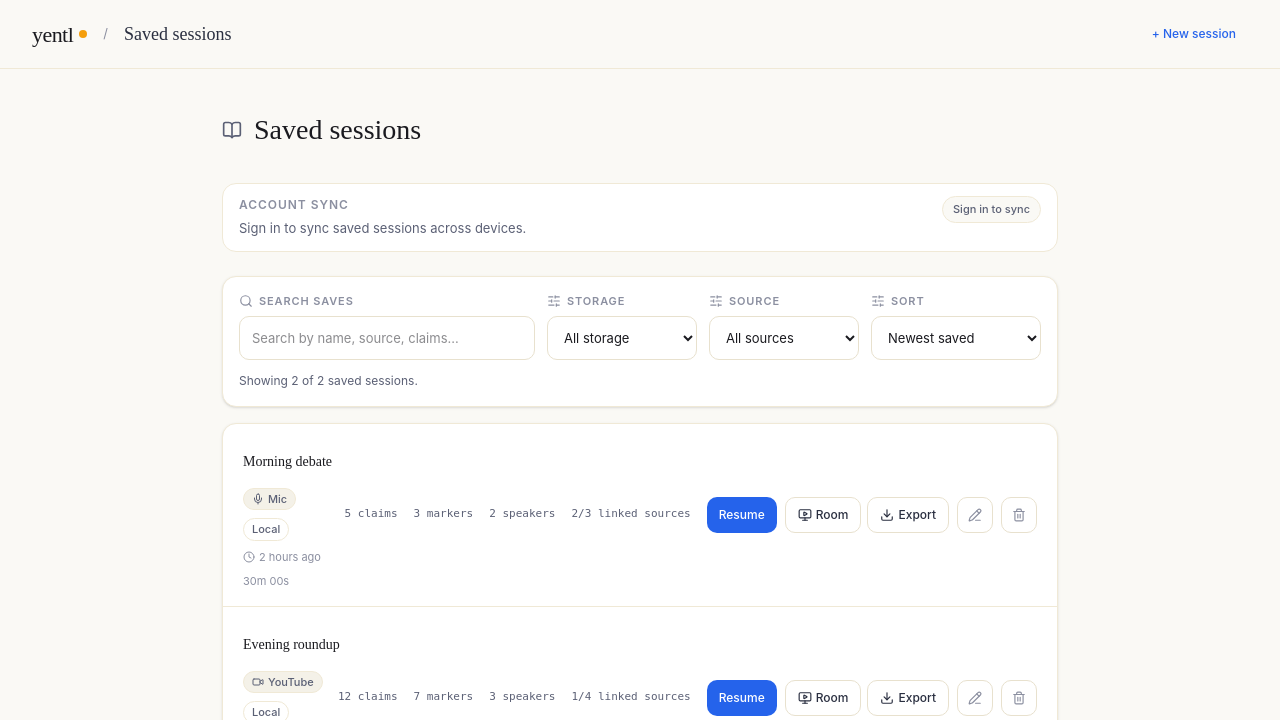
Scenario: SessionsLibraryPage — with sessions › searches saved sessions by source evidence
Check: the text "Morning debate" is shown, box top-left (243, 451), bottom-right (332, 472)
Type "2 linked" into the field labelled "Search saves" at {"x": 387, "y": 338}, box top-left (239, 316), bottom-right (535, 360)
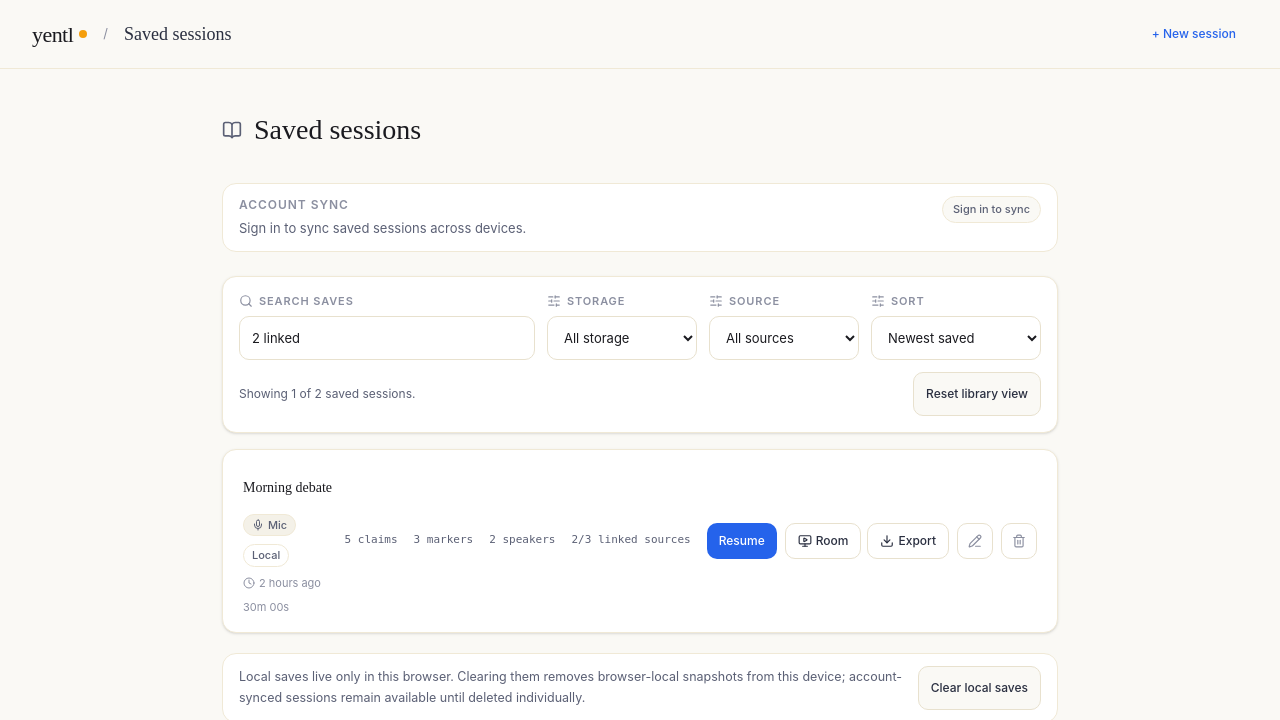
Check: the text "Morning debate" is shown, box top-left (243, 477), bottom-right (332, 498)
Check: the button "Evening roundup" is gone
Check: the text "Showing 1 of 2 saved sessions." is shown, box top-left (239, 385), bottom-right (415, 403)
